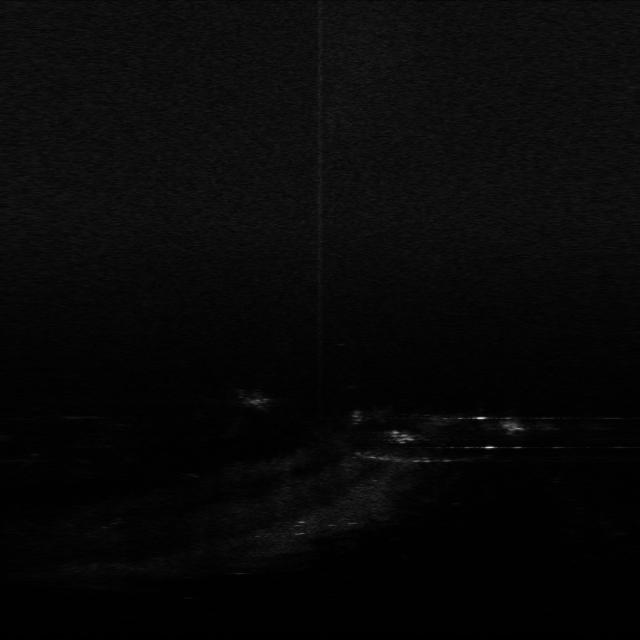rov: (387, 428, 417, 447)
